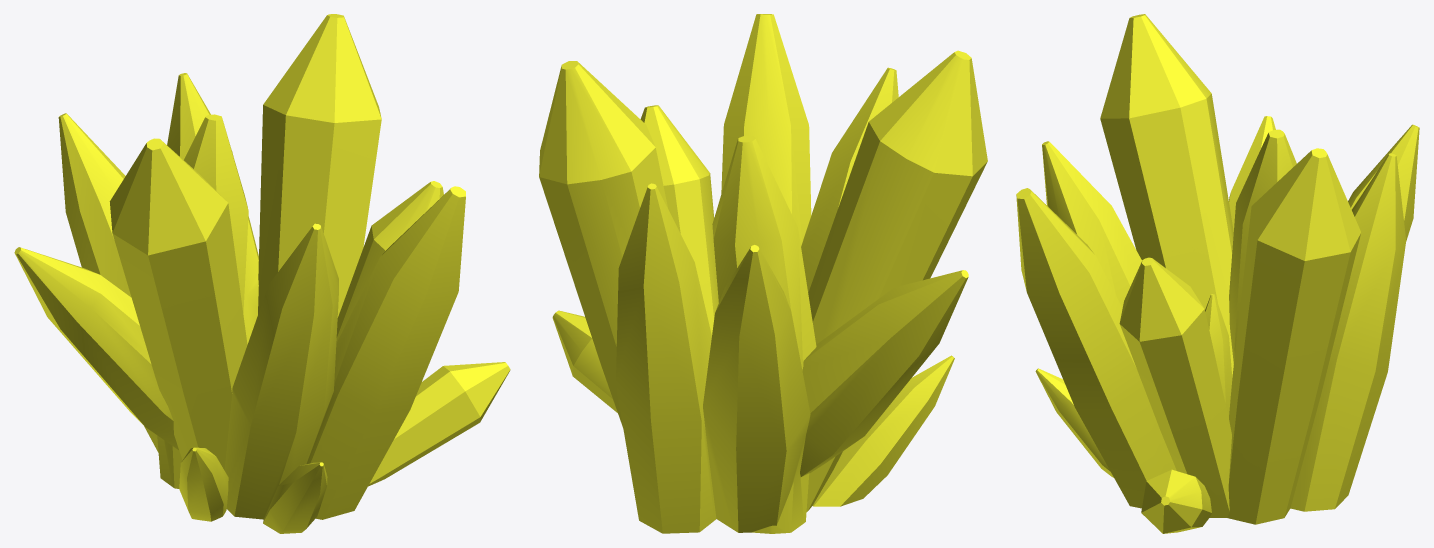
Rendered from Prop_Crystal_Yellow_01.fbx.
The picture shows the model from 3 angles, left to right: view 1: azimuth 30°, elevation 25°; view 2: azimuth 150°, elevation 25°; view 3: azimuth 270°, elevation 25°; orthographic projection. The views are drawn at different scales.
Parts seen in each view (by area): view 1: Prop_Crystal_Yellow_01; view 2: Prop_Crystal_Yellow_01; view 3: Prop_Crystal_Yellow_01.
Part boxes in pixels (x1,y1,x2,y2): Prop_Crystal_Yellow_01: [14, 14, 510, 533]; Prop_Crystal_Yellow_01: [539, 14, 987, 533]; Prop_Crystal_Yellow_01: [1016, 14, 1419, 533].
Bounding box in the file's own units: 49.76 × 44.62 × 40.72.
